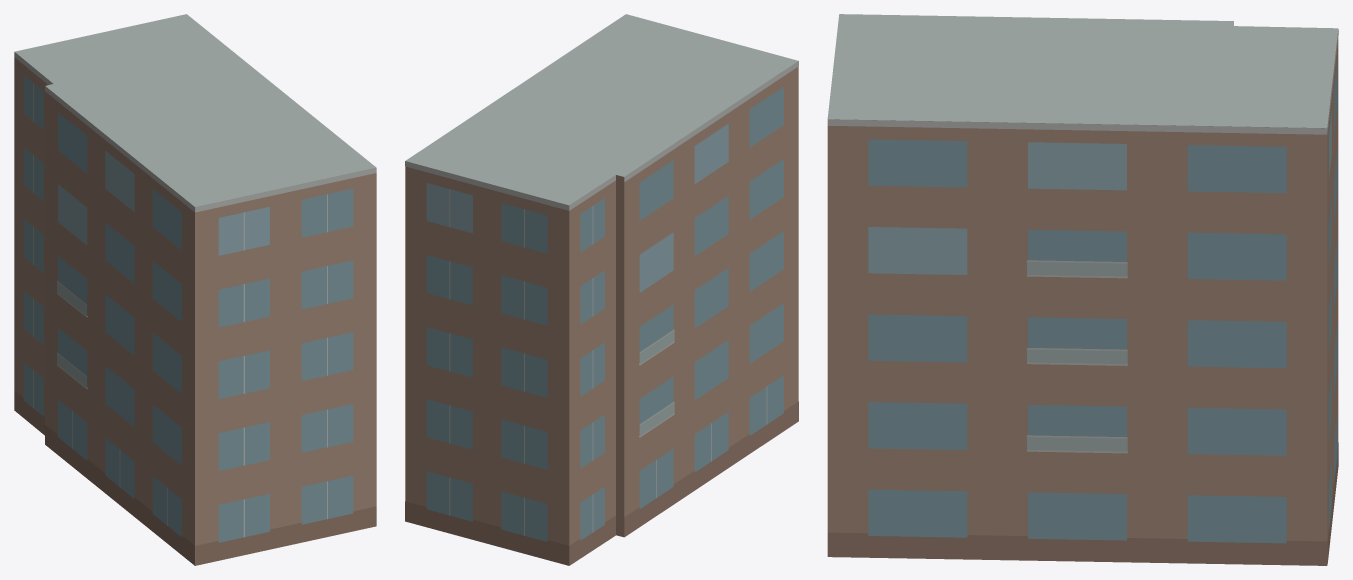
File: survey-upis-32766270.glb
3 renders of one model, left to right at view 1: azimuth 30°, elevation 25°; view 2: azimuth 150°, elevation 25°; view 3: azimuth 270°, elevation 25°, orthographic. The views are drawn at different scales.
Visible parts, largest first — view 1: survey-upis-32766270.tmp; view 2: survey-upis-32766270.tmp; view 3: survey-upis-32766270.tmp.
Boxes of the visible parts, left/top/right/bottom form: survey-upis-32766270.tmp: left=14, top=14, right=376, bottom=565; survey-upis-32766270.tmp: left=405, top=14, right=798, bottom=565; survey-upis-32766270.tmp: left=827, top=14, right=1338, bottom=565.
Bounding box in the file's own units: 9.13 × 16.3 × 17.25.
